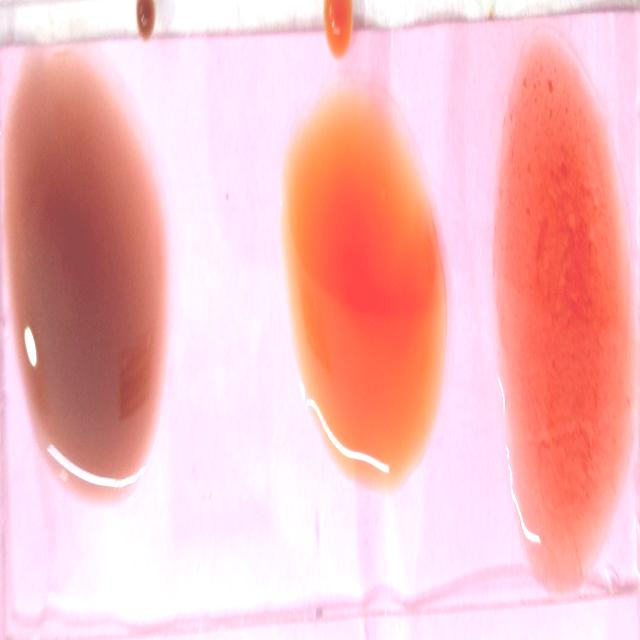D: (498, 27, 626, 559)
